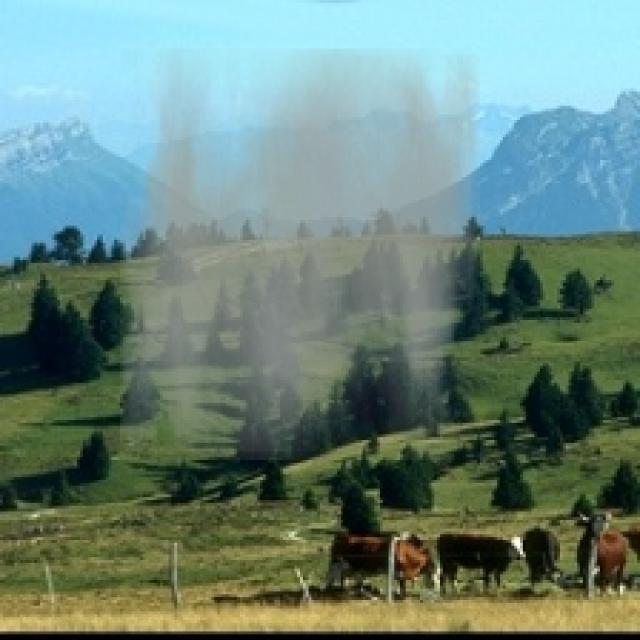Smoke: (120, 48, 480, 460)
